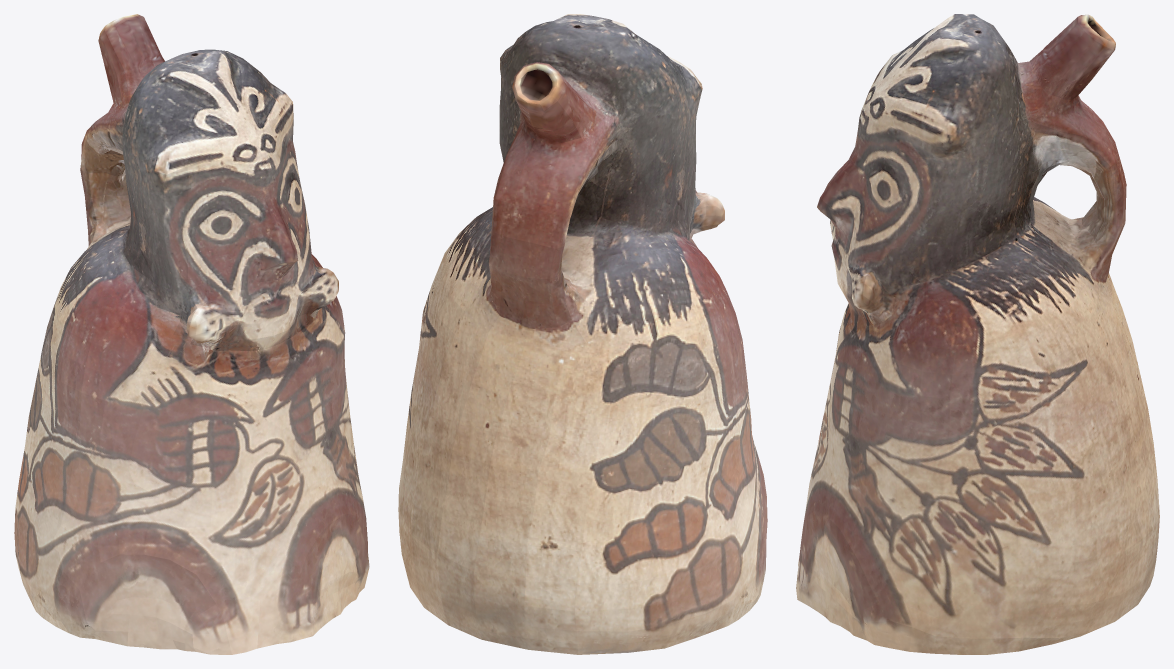
The model's file is objeto_18_nasca.glb.
3 renders of one model, left to right at view 1: azimuth 30°, elevation 25°; view 2: azimuth 150°, elevation 25°; view 3: azimuth 270°, elevation 25°, orthographic. The views are drawn at different scales.
Parts seen in each view (by area): view 1: Box003_objeto09_0; view 2: Box003_objeto09_0; view 3: Box003_objeto09_0.
Part boxes in pixels (<box>): Box003_objeto09_0: <box>14,14,369,654</box>; Box003_objeto09_0: <box>398,14,767,654</box>; Box003_objeto09_0: <box>796,14,1159,654</box>.
Bounding box in the file's own units: 51.76 × 86.98 × 51.49.
1 material, 1 textured.
